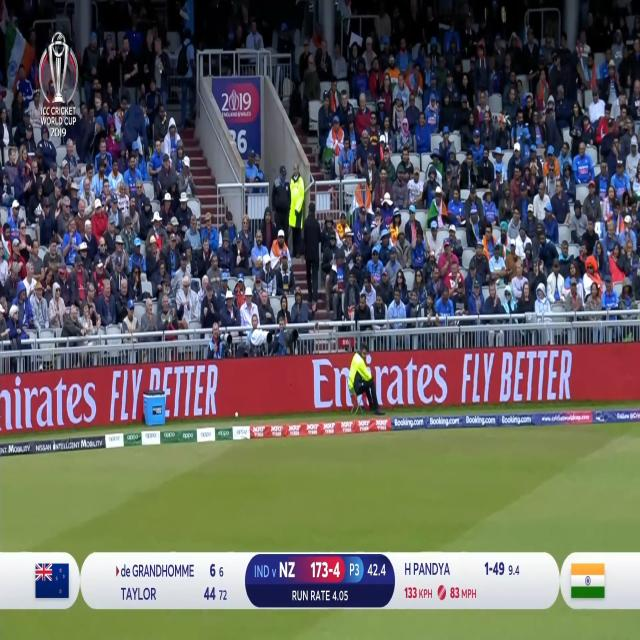ball: (233, 409, 240, 420)
